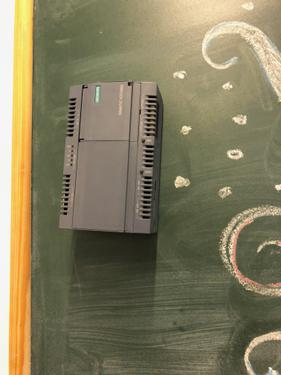device: (59, 80, 164, 235)
